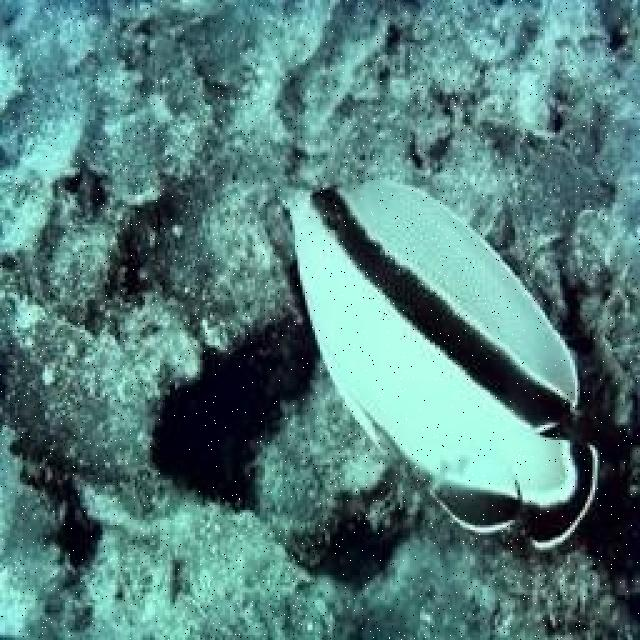fish: (283, 179, 599, 551)
